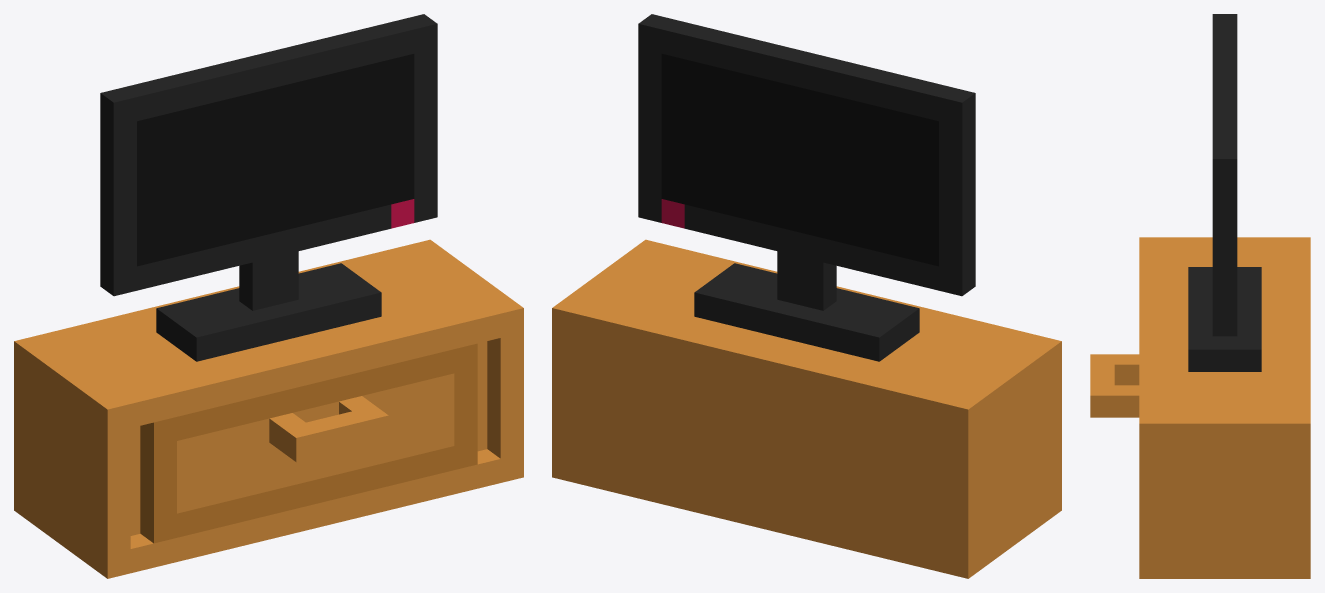
Rendered from obj_tv_table.obj.
3 renders of one model, left to right at view 1: azimuth 30°, elevation 25°; view 2: azimuth 150°, elevation 25°; view 3: azimuth 270°, elevation 25°, orthographic. The views are drawn at different scales.
Parts seen in each view (by area): view 1: obj_tv_table; view 2: obj_tv_table; view 3: obj_tv_table.
Part boxes in pixels (x1,y1,x2,y2): obj_tv_table: (14, 14, 523, 578); obj_tv_table: (552, 14, 1061, 578); obj_tv_table: (1090, 14, 1310, 578).
Size of the model in its own units: 18 by 18 by 9.
1 material, 1 textured.
